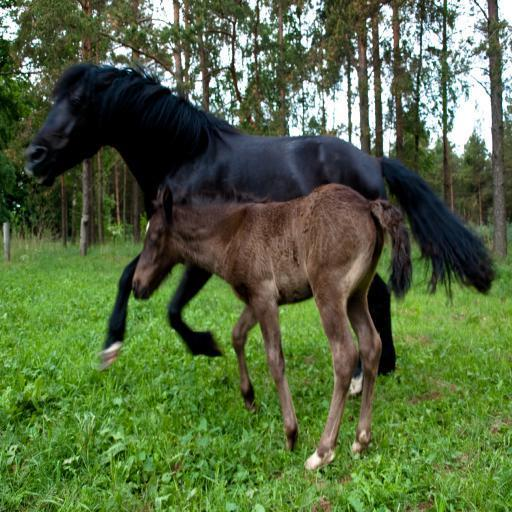horse: (23, 58, 496, 400), (132, 184, 412, 474)
